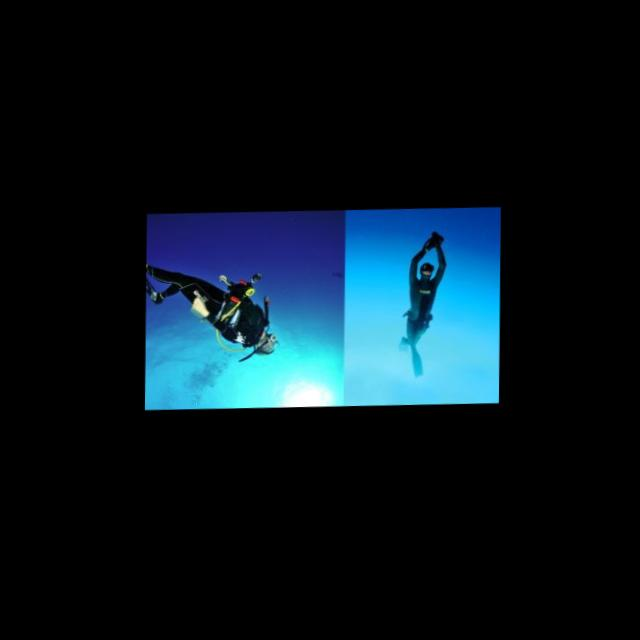human: (145, 257, 280, 373), (396, 230, 460, 383)
